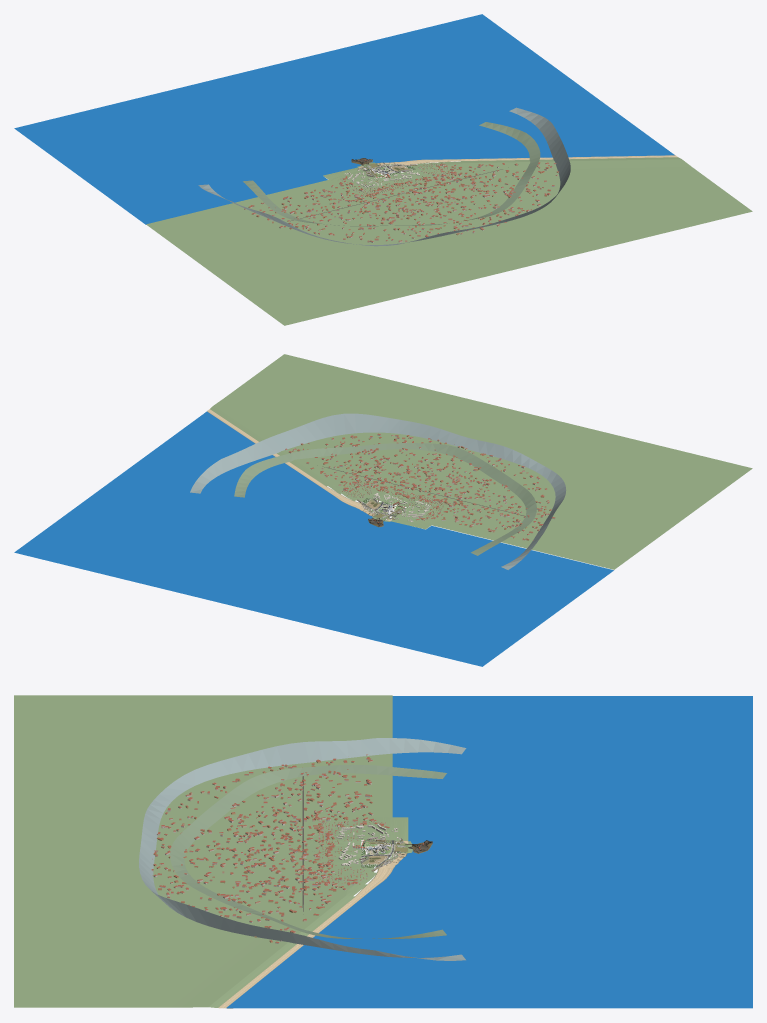
File: CampusWorld.fbx
3 renders of one model, top to bottom at view 1: azimuth 30°, elevation 25°; view 2: azimuth 150°, elevation 25°; view 3: azimuth 270°, elevation 25°, orthographic. The views are drawn at different scales.
Visible parts, largest first — view 1: Backdrop_Sea, Backdrop_Land, Backdrop_FarBeach, Backdrop_Horizon, Backdrop_FarTown; view 2: Backdrop_Sea, Backdrop_Land, Backdrop_Horizon, Backdrop_FarBeach, Backdrop_FarTown; view 3: Backdrop_Sea, Backdrop_Land, Backdrop_Horizon, Backdrop_FarBeach, Backdrop_FarTown, World_Ground, Backdrop_Buildings.
Boxes of the visible parts, <box> form: Backdrop_Sea: <box>14,14,674,224</box>; Backdrop_Land: <box>146,162,752,325</box>; Backdrop_FarBeach: <box>405,155,706,184</box>; Backdrop_Horizon: <box>198,107,570,246</box>; Backdrop_FarTown: <box>244,162,558,242</box>; Backdrop_Sea: <box>14,411,613,666</box>; Backdrop_Land: <box>239,354,752,569</box>; Backdrop_Horizon: <box>190,413,566,569</box>; Backdrop_FarBeach: <box>207,387,386,507</box>; Backdrop_FarTown: <box>285,433,555,540</box>; Backdrop_Sea: <box>226,696,752,1008</box>; Backdrop_Land: <box>14,695,412,1007</box>; Backdrop_Horizon: <box>139,738,466,960</box>; Backdrop_FarBeach: <box>138,867,392,1008</box>; Backdrop_FarTown: <box>151,754,389,943</box>; World_Ground: <box>361,839,408,868</box>; Backdrop_Buildings: <box>336,824,401,871</box>.
Size of what is drawn, in the model's own units: 8000 by 276 by 8000.
